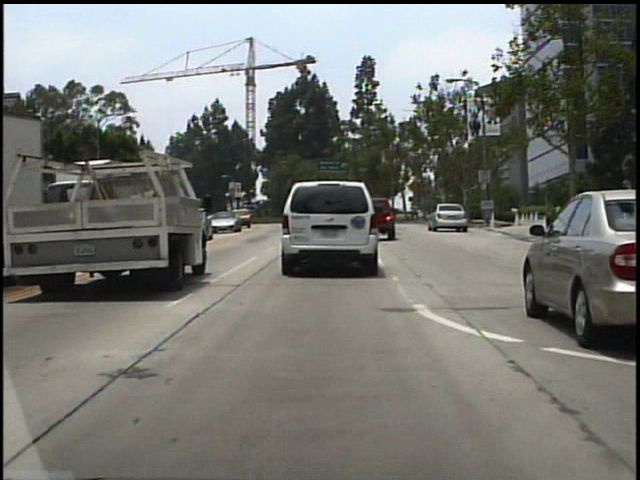person: (411, 196, 425, 223)
